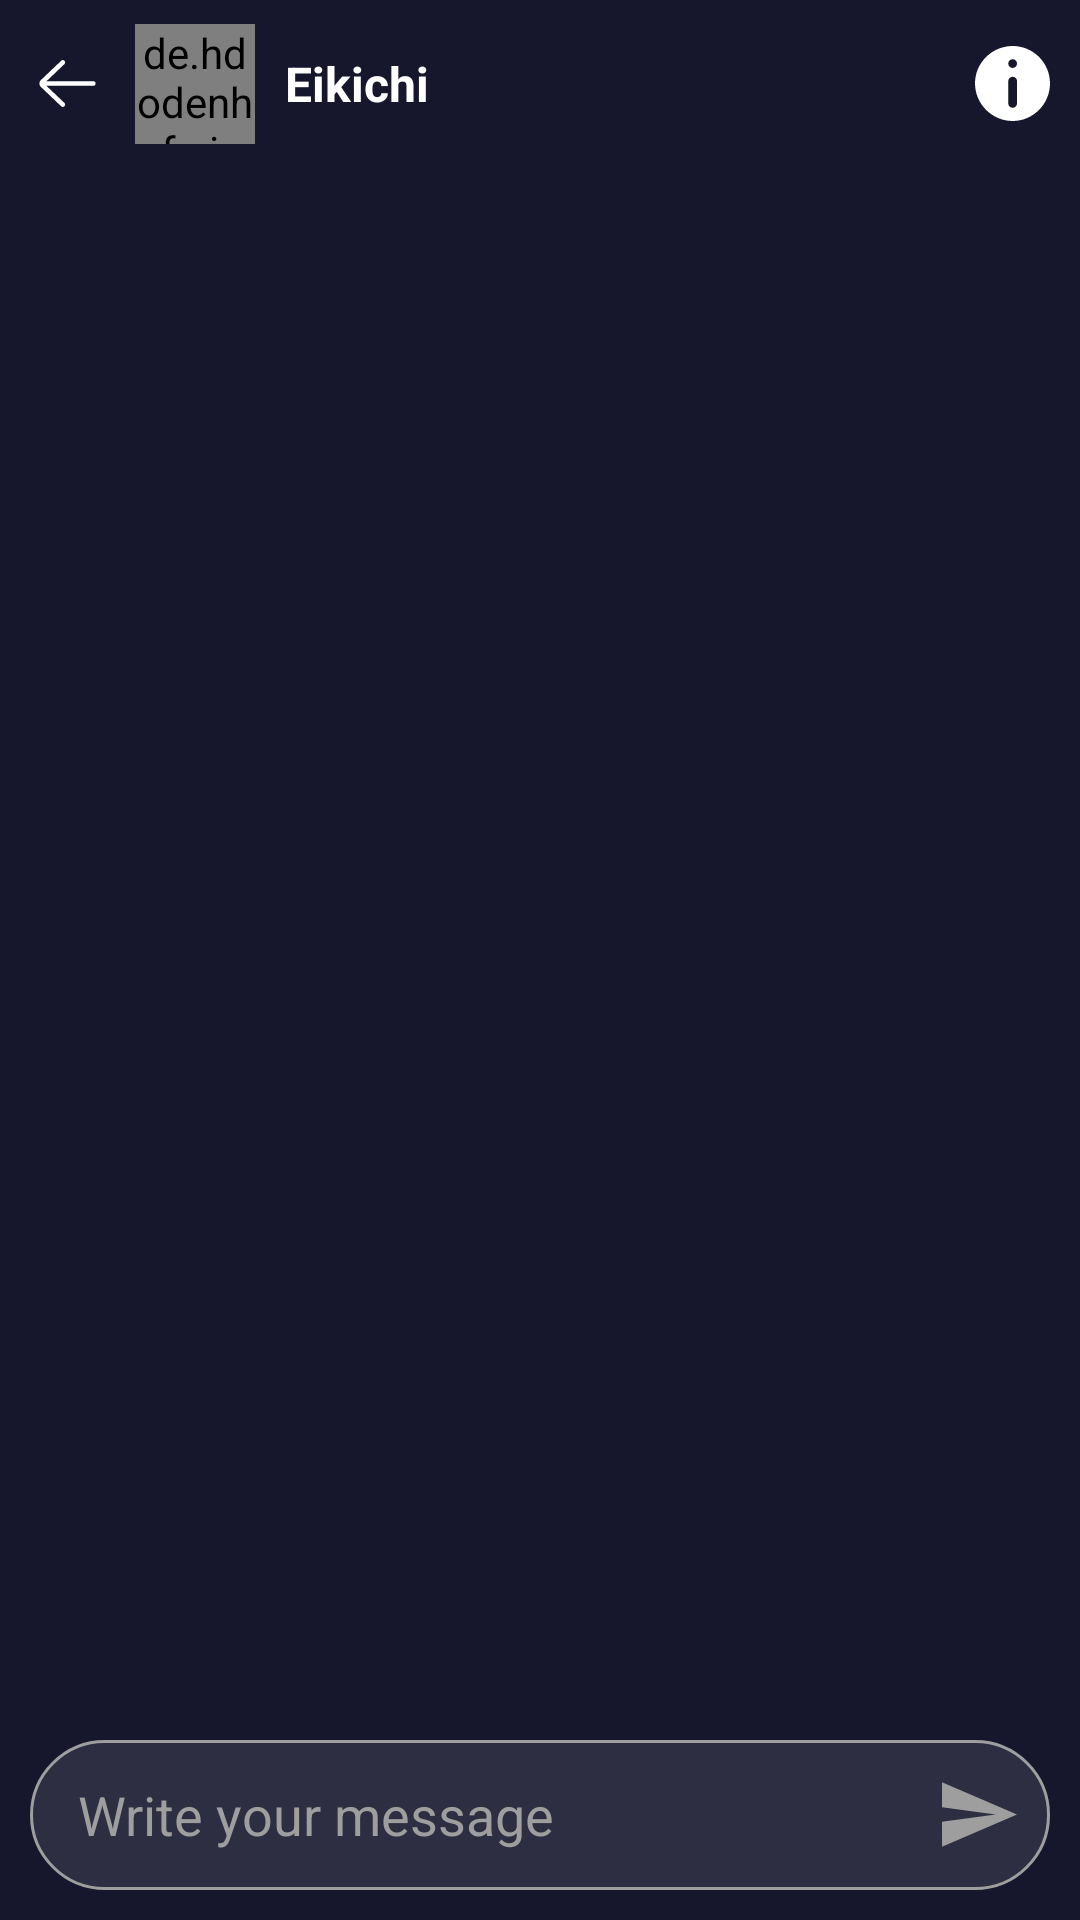

Where to tap for icons on this 1080px x 1920px app screen, as [x,y]:
information: [1012,83]
left arrow: [67,83]
send: [979,1814]
